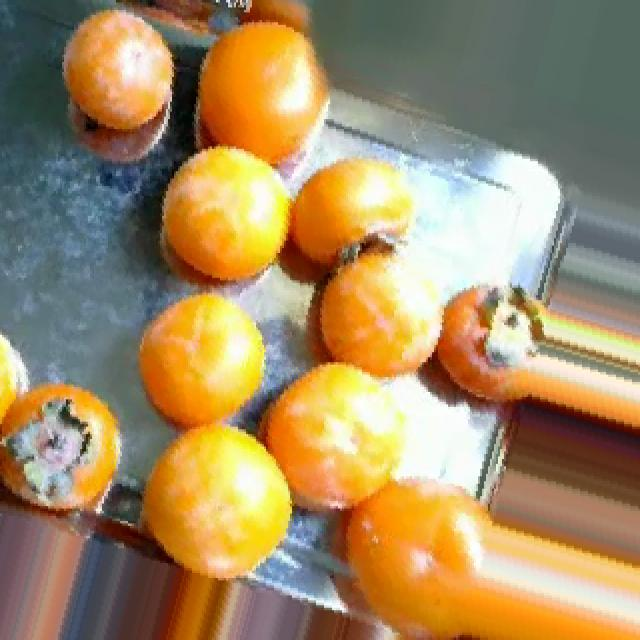Fruit: (120, 402, 316, 615), (178, 0, 356, 193), (140, 129, 314, 320), (118, 270, 288, 462), (44, 0, 190, 184)
